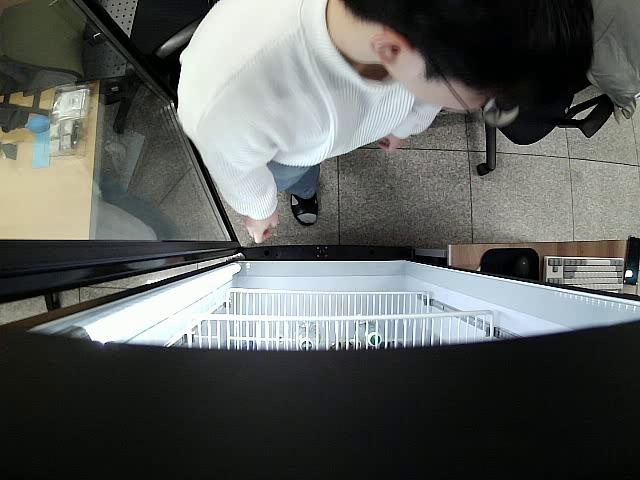00_hand: (246, 213, 278, 244), (379, 132, 406, 154)
